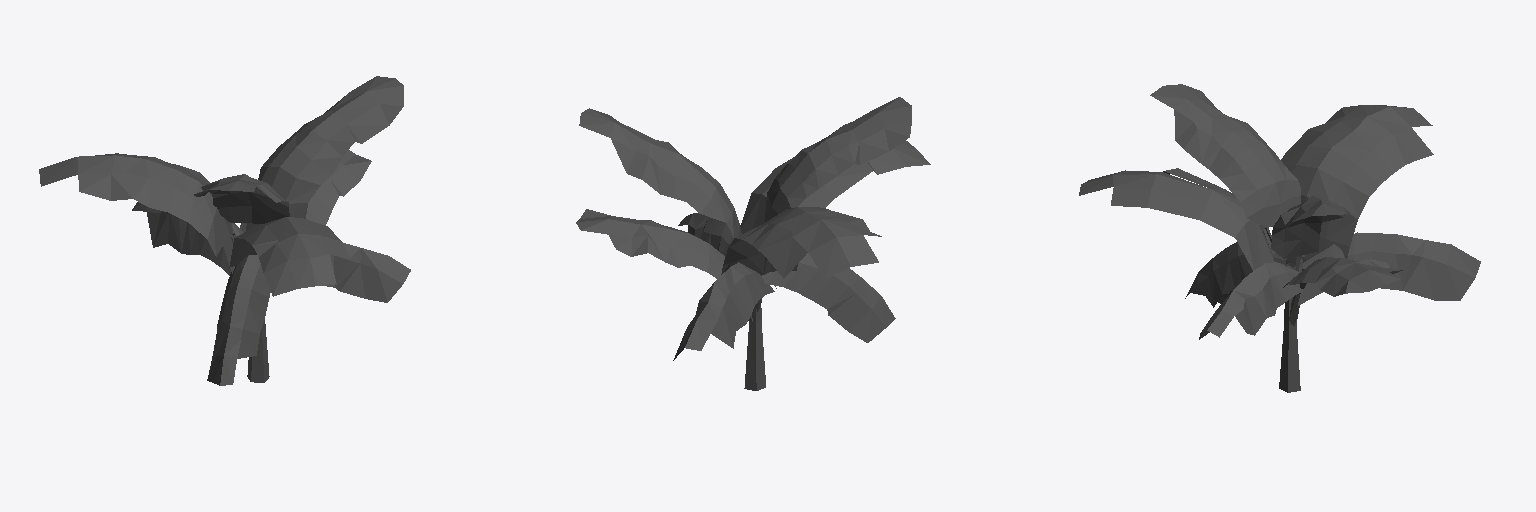
Rendered from Banane.obj.
3 views of the same model, side by side, from view 1: azimuth 30°, elevation 25°; view 2: azimuth 150°, elevation 25°; view 3: azimuth 270°, elevation 25° (orthographic).
Bounding box in the file's own units: 5.48 × 4.12 × 5.85.